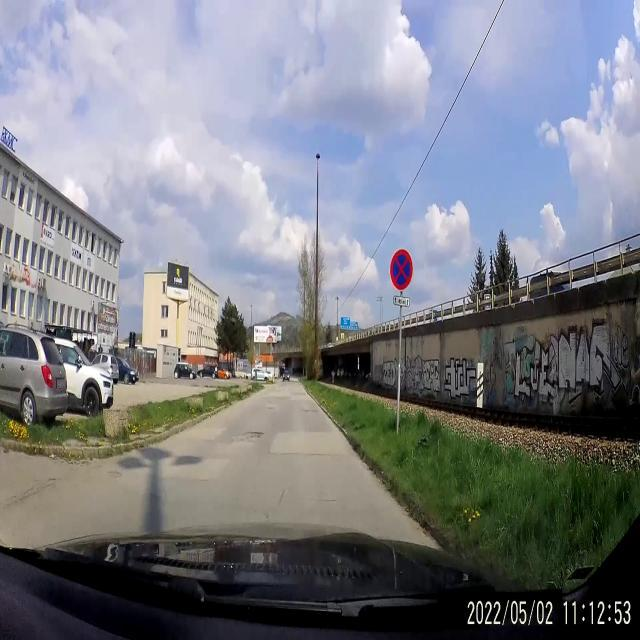Pothole: (238, 422, 266, 450)
